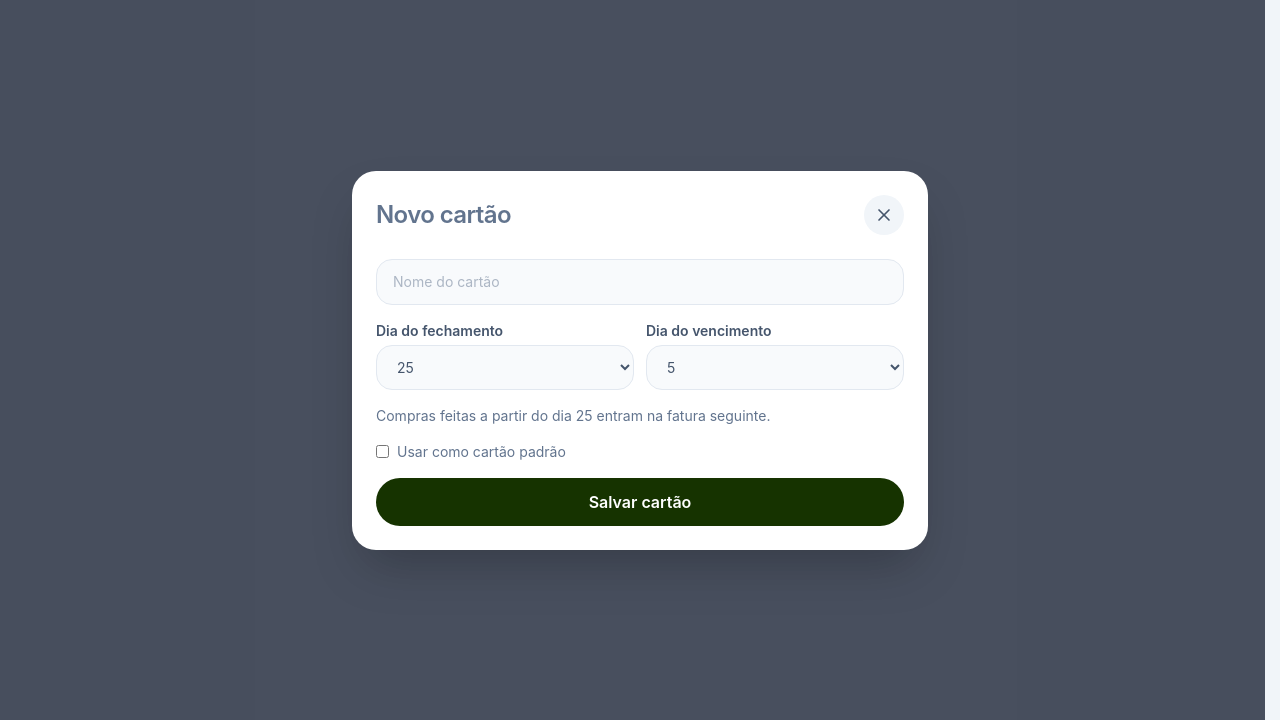
CardModal › explica a regra do fechamento e dos meses curtos
Expected: the text "Compras feitas a partir do dia 25 entram na fatura seguinte." is shown, [376,406,770,424]
Select "31" in the dropdown labelled "Dia do fechamento". click: (505, 367)
box: [376,344,634,390]
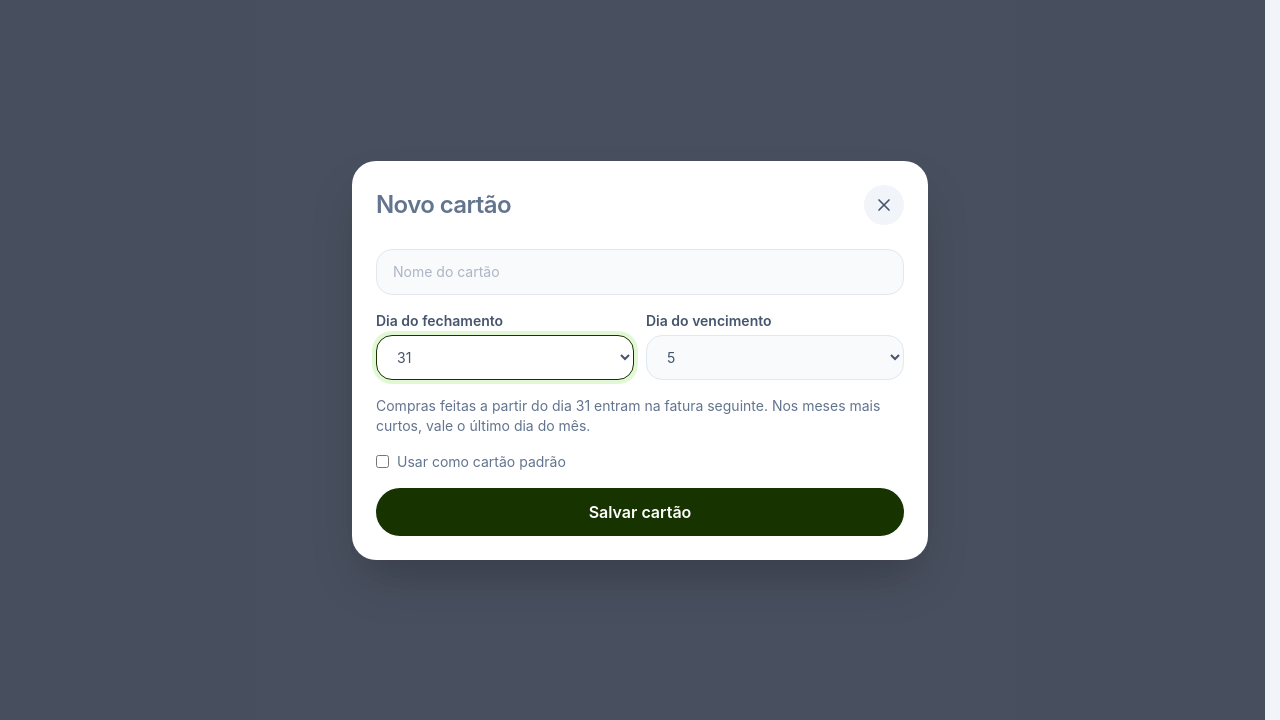
Expected: the text "Nos meses mais curtos, vale o último dia do mês." is shown, [376,396,880,434]
